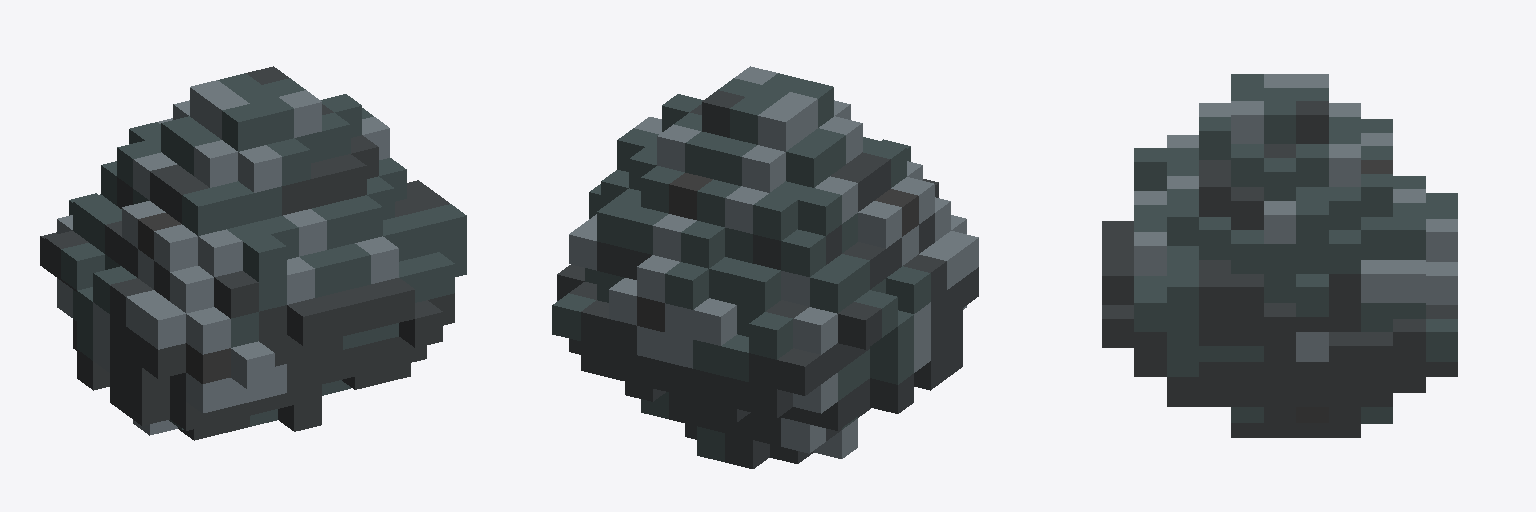
3 views of the same model, side by side, from view 1: azimuth 30°, elevation 25°; view 2: azimuth 150°, elevation 25°; view 3: azimuth 270°, elevation 25° (orthographic).
Visible parts, largest first — view 1: object 1; view 2: object 1; view 3: object 1.
Boxes of the visible parts, x1,y1,x2,y2 form: object 1: [40, 66, 466, 440]; object 1: [552, 66, 978, 468]; object 1: [1102, 74, 1457, 437].
Size of the model in its own units: 1.1 by 1.1 by 1.1.
Materials: 1 (1 with a texture image).